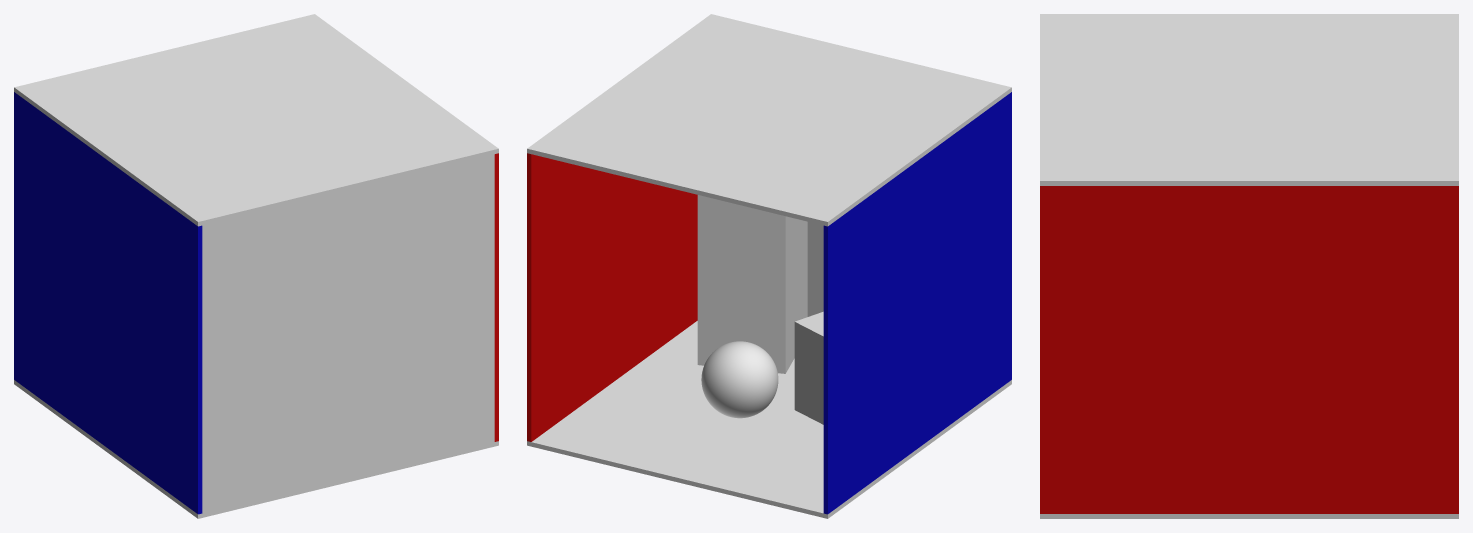
The model's file is CornellBox.gltf.
The picture shows the model from 3 angles, left to right: view 1: azimuth 30°, elevation 25°; view 2: azimuth 150°, elevation 25°; view 3: azimuth 270°, elevation 25°; orthographic projection. The views are drawn at different scales.
Parts seen in each view (by area): view 1: Cube.004, Cube, Cube.001, Cube.002, Cube.003; view 2: Cube, Cube.001, Cube.003, Cube.002, Cube.005, Icosphere, Cube.006, Cube.004; view 3: Cube.003, Cube, Cube.002.
Boxes of the visible parts, x1=… form: Cube.004: x1=202, y1=154, x2=494, y2=513; Cube: x1=14, y1=14, x2=498, y2=226; Cube.001: x1=14, y1=92, x2=202, y2=514; Cube.002: x1=14, y1=380, x2=498, y2=518; Cube.003: x1=494, y1=153, x2=498, y2=441; Cube: x1=527, y1=14, x2=1011, y2=226; Cube.001: x1=823, y1=92, x2=1011, y2=514; Cube.003: x1=527, y1=153, x2=697, y2=441; Cube.002: x1=527, y1=321, x2=1011, y2=518; Cube.005: x1=697, y1=195, x2=807, y2=373; Icosphere: x1=701, y1=341, x2=778, y2=418; Cube.006: x1=794, y1=311, x2=823, y2=424; Cube.004: x1=807, y1=222, x2=823, y2=316; Cube.003: x1=1040, y1=186, x2=1458, y2=513; Cube: x1=1040, y1=14, x2=1458, y2=185; Cube.002: x1=1040, y1=514, x2=1458, y2=518.
Size of the model in its own units: 13.99 by 13.2 by 14.83.
